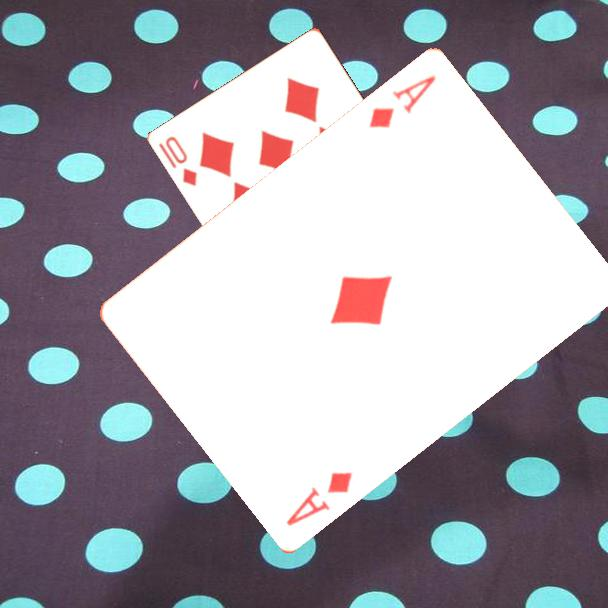d01: (282, 468, 356, 530), (365, 72, 439, 132)
d10: (155, 133, 201, 189)
